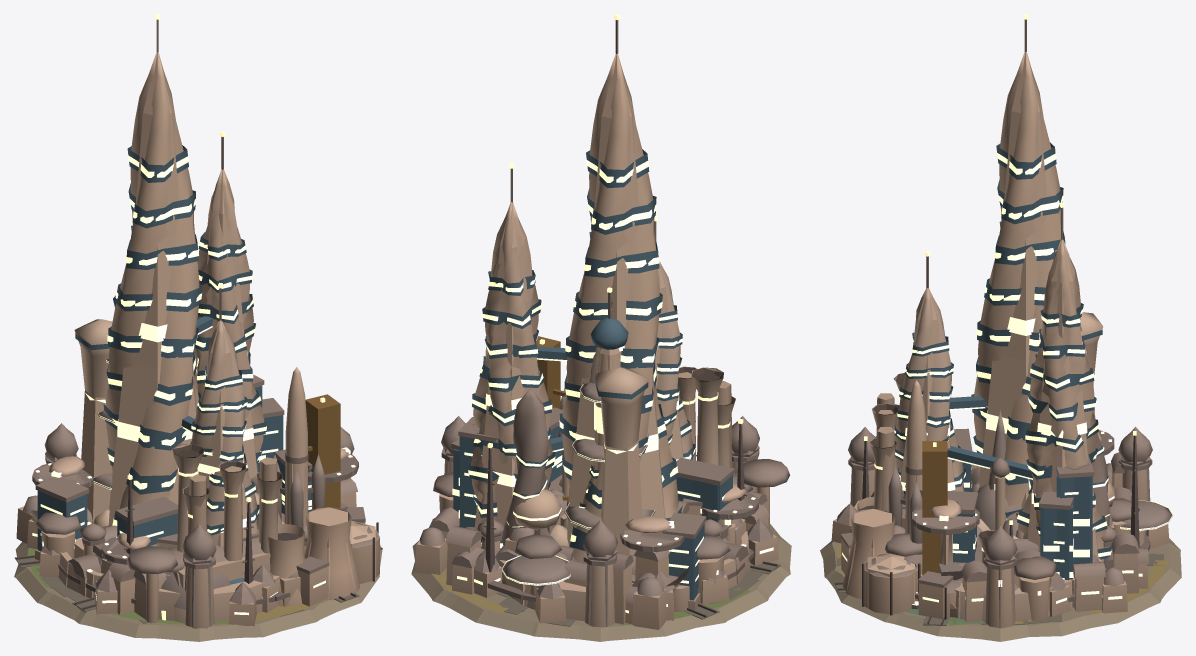
Rendered from towns.glb.
The picture shows the model from 3 angles, left to right: view 1: azimuth 30°, elevation 25°; view 2: azimuth 150°, elevation 25°; view 3: azimuth 270°, elevation 25°; orthographic projection. The views are drawn at different scales.
Parts seen in each view (by area): view 1: town_l6_a, town_l6_far, town_l5_a, town_l4_a, town_l3_b, town_l3_a, town_l2_a, town_l5_far, town_l4_b, town_l3_far, town_l2_b, town_l4_far (+2 smaller); view 2: town_l6_a, town_l5_a, town_l4_a, town_l6_far, town_l3_b, town_l2_a, town_l2_b, town_l5_far, town_l3_a, town_l4_b, town_l4_far, town_l2_far (+2 smaller); view 3: town_l6_a, town_l6_far, town_l4_a, town_l5_a, town_l2_a, town_l2_b, town_l3_a, town_l3_b, town_l5_far, town_l4_b, town_l4_far, town_l3_far (+3 smaller).
Part boxes in pixels (x1,y1,x2,y2): town_l6_a: [32, 14, 379, 623]; town_l6_far: [36, 53, 354, 558]; town_l5_a: [15, 319, 339, 623]; town_l4_a: [29, 295, 360, 637]; town_l3_b: [14, 444, 382, 639]; town_l3_a: [35, 461, 381, 638]; town_l2_a: [16, 423, 354, 628]; town_l5_far: [81, 390, 340, 523]; town_l4_b: [48, 466, 365, 641]; town_l3_far: [78, 457, 382, 612]; town_l2_b: [27, 512, 379, 626]; town_l4_far: [117, 385, 355, 598]; town_l6_a: [412, 14, 758, 639]; town_l5_a: [415, 336, 785, 640]; town_l4_a: [429, 287, 789, 614]; town_l6_far: [474, 54, 754, 552]; town_l3_b: [432, 367, 778, 623]; town_l2_a: [441, 416, 769, 627]; town_l2_b: [431, 429, 790, 641]; town_l5_far: [452, 336, 642, 568]; town_l3_a: [411, 366, 791, 624]; town_l4_b: [477, 347, 780, 635]; town_l4_far: [458, 348, 732, 526]; town_l2_far: [445, 445, 759, 626]; town_l6_a: [835, 14, 1180, 636]; town_l6_far: [900, 52, 1110, 565]; town_l4_a: [820, 350, 1165, 624]; town_l5_a: [838, 312, 1172, 639]; town_l2_a: [827, 410, 1168, 637]; town_l2_b: [885, 457, 1181, 623]; town_l3_a: [862, 403, 1157, 627]; town_l3_b: [823, 373, 1169, 636]; town_l5_far: [905, 384, 1095, 605]; town_l4_b: [840, 464, 1181, 624]; town_l4_far: [846, 462, 1089, 591]; town_l3_far: [867, 393, 944, 625].
Bounding box in the file's own units: 20.26 × 32.47 × 19.91.
